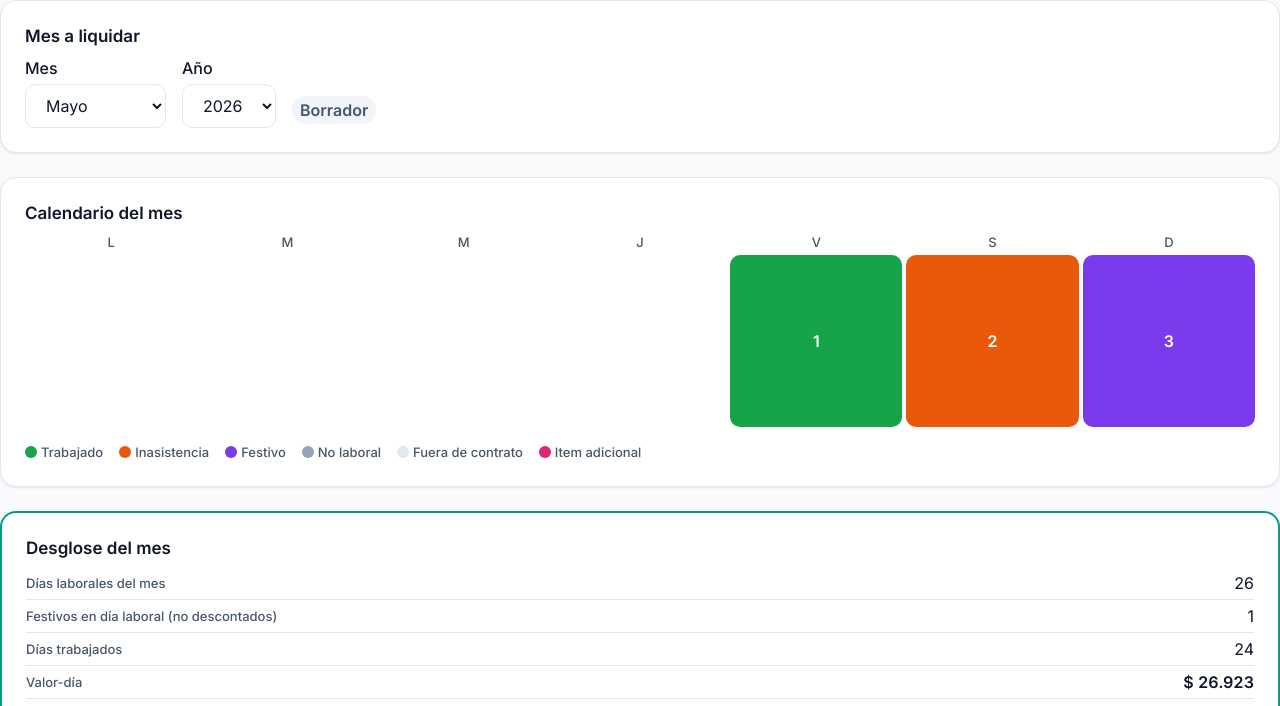
it: LiquidarMesSection — novedades (Spec novedades) › AC-8: 409 LIQUIDACION_CERRADA muestra mensaje amable de mes cerrado
The image size is (1280, 706).
Click the cell named "1 de mayo" at (816, 341), box [730,255,902,427]
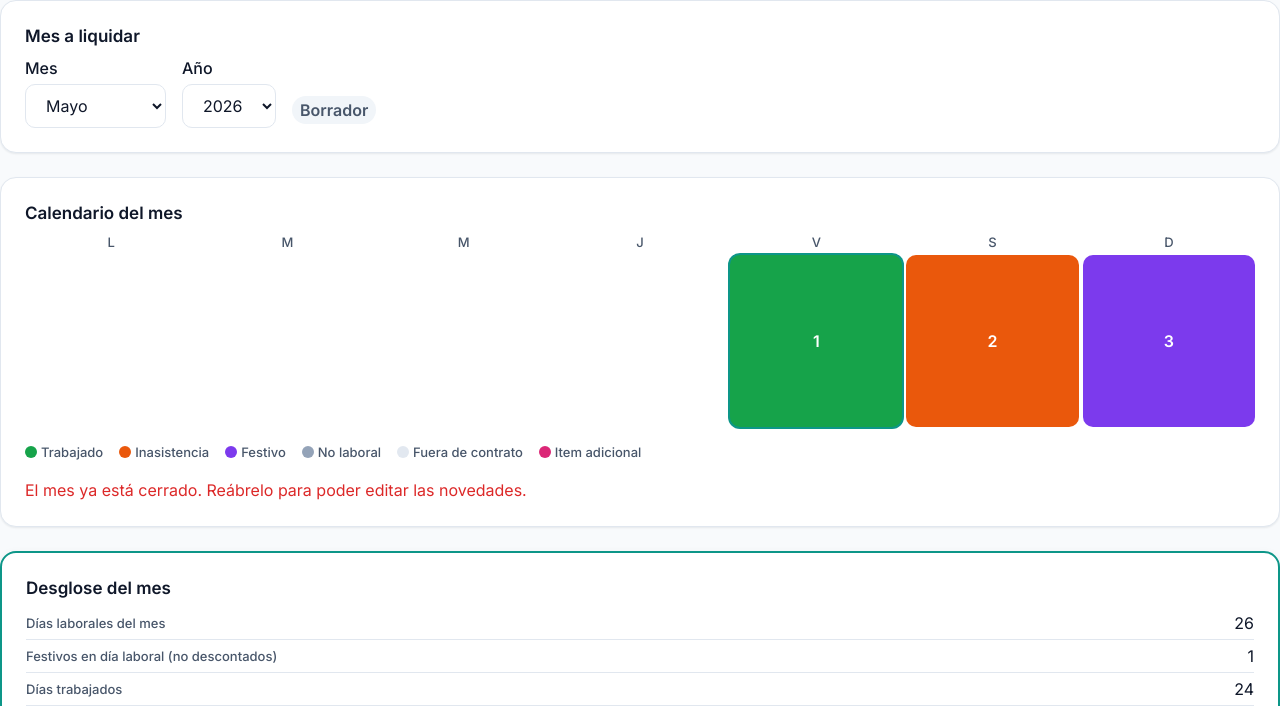
Expected: the text "El mes ya está cerrado. Reábrelo para poder editar las novedades." is shown, [25,480,527,500]
